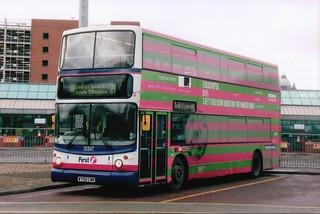bus: (49, 25, 282, 195)
